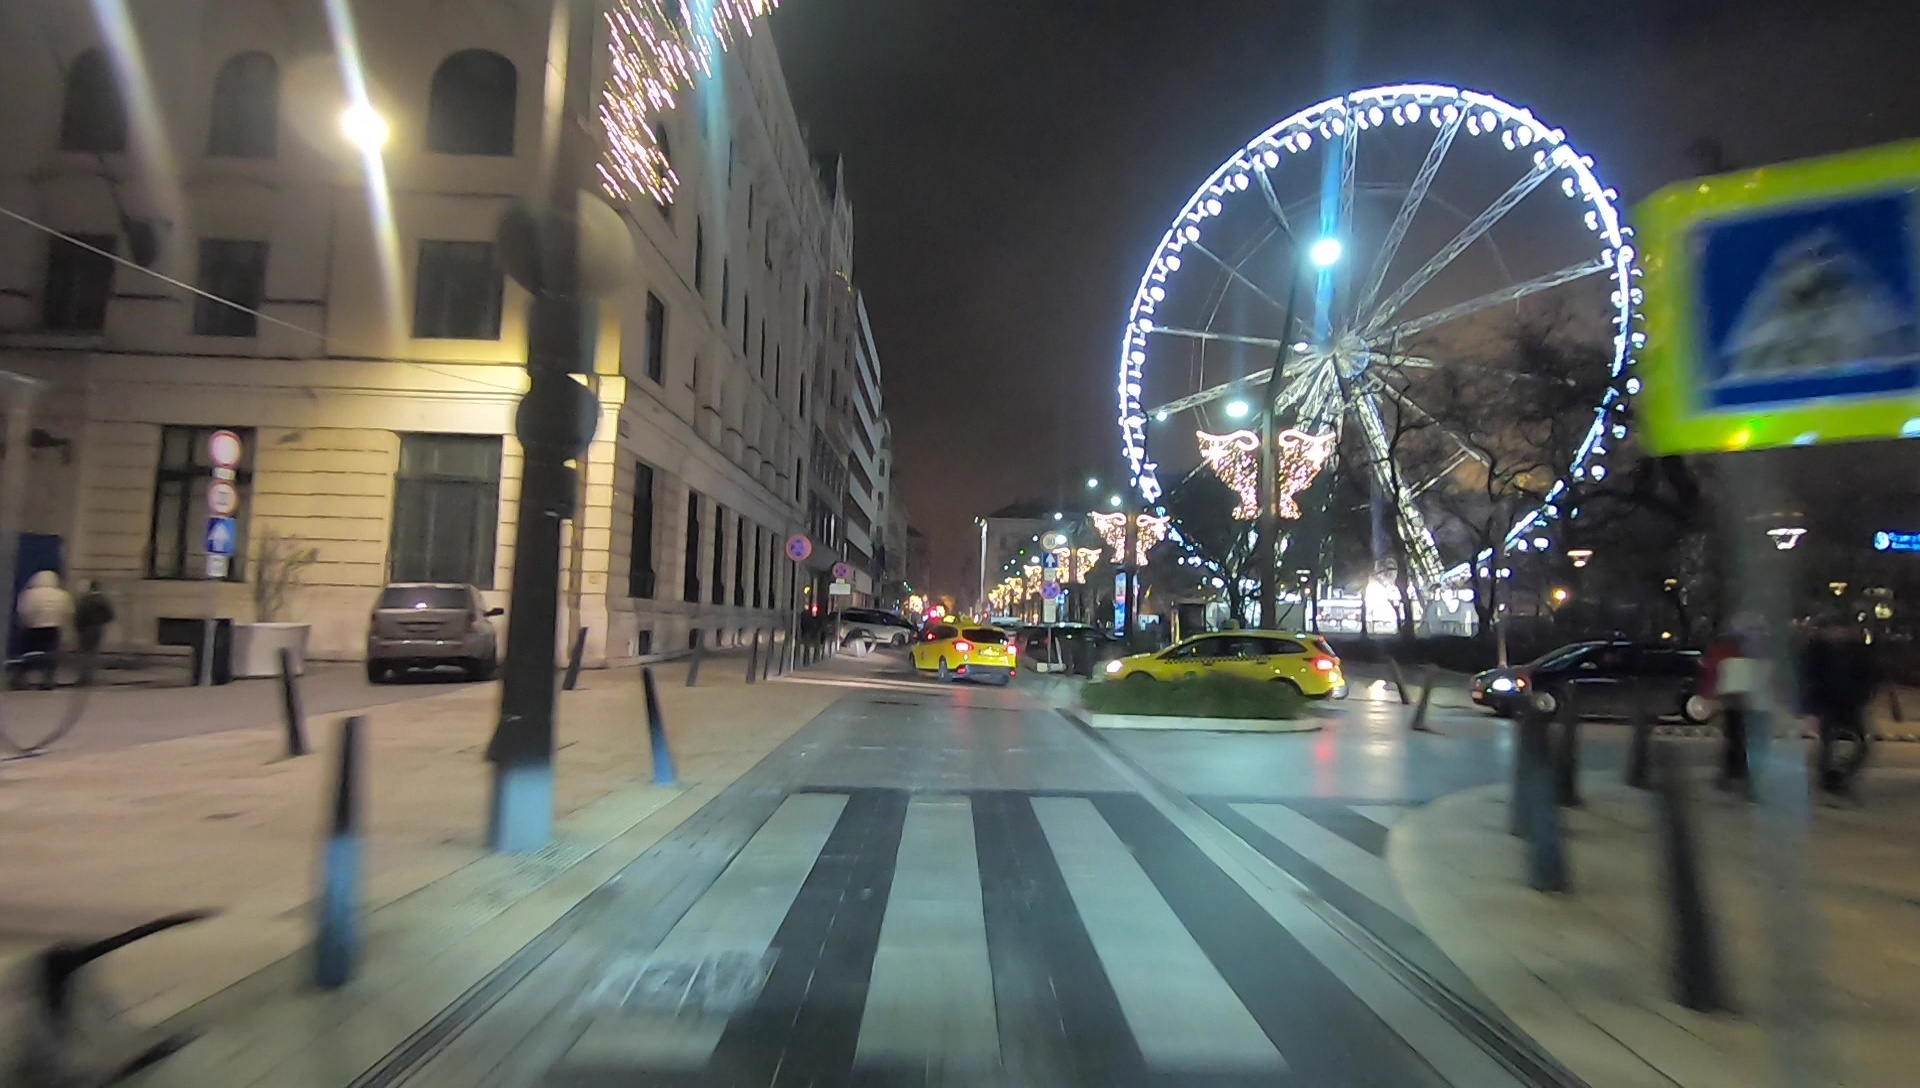person: (1808, 617, 1876, 808), (14, 571, 73, 687), (71, 582, 112, 682)
